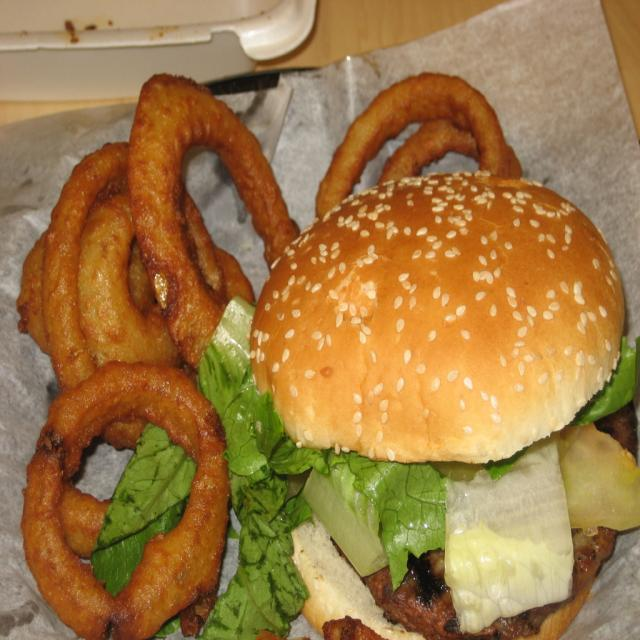Hamburger: (249, 172, 639, 640)
